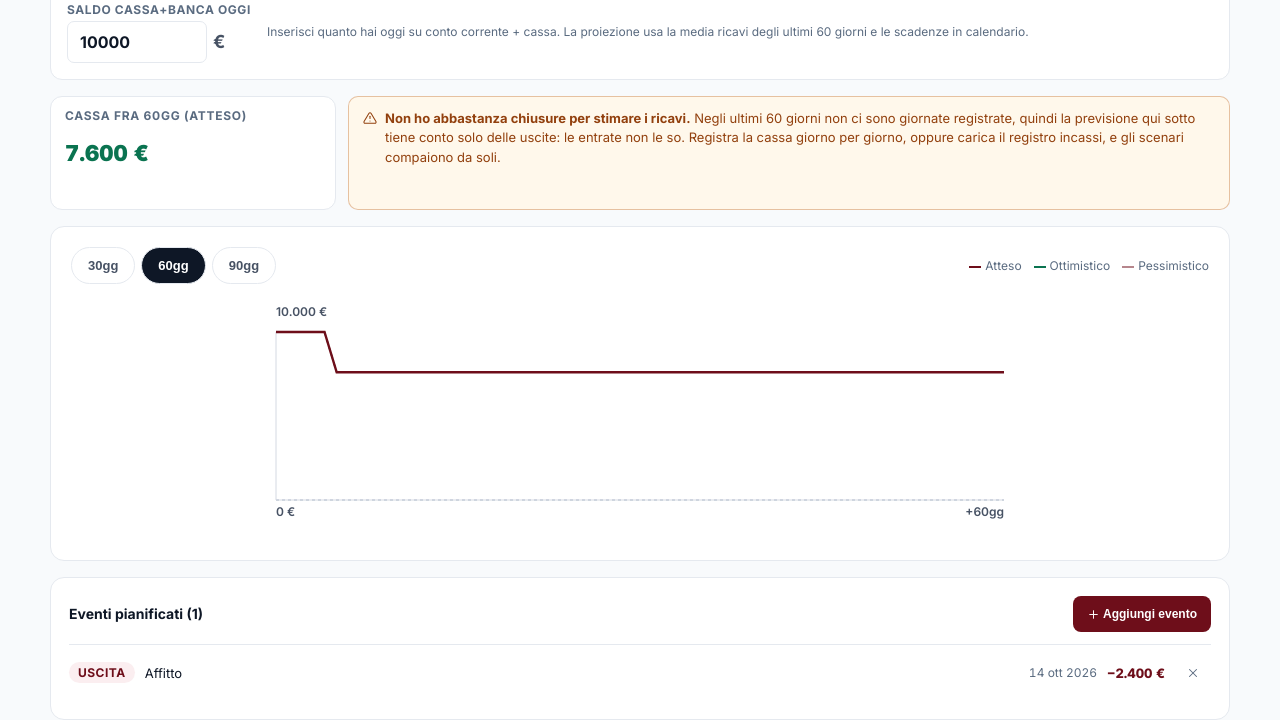
Test: eliminare un evento: la finestra è quella dell'app › il browser non viene mai interpellato
(page scrolled)
Click the button named "Elimina evento Affitto": (1193, 673) left=1175, top=655, right=1211, bottom=691
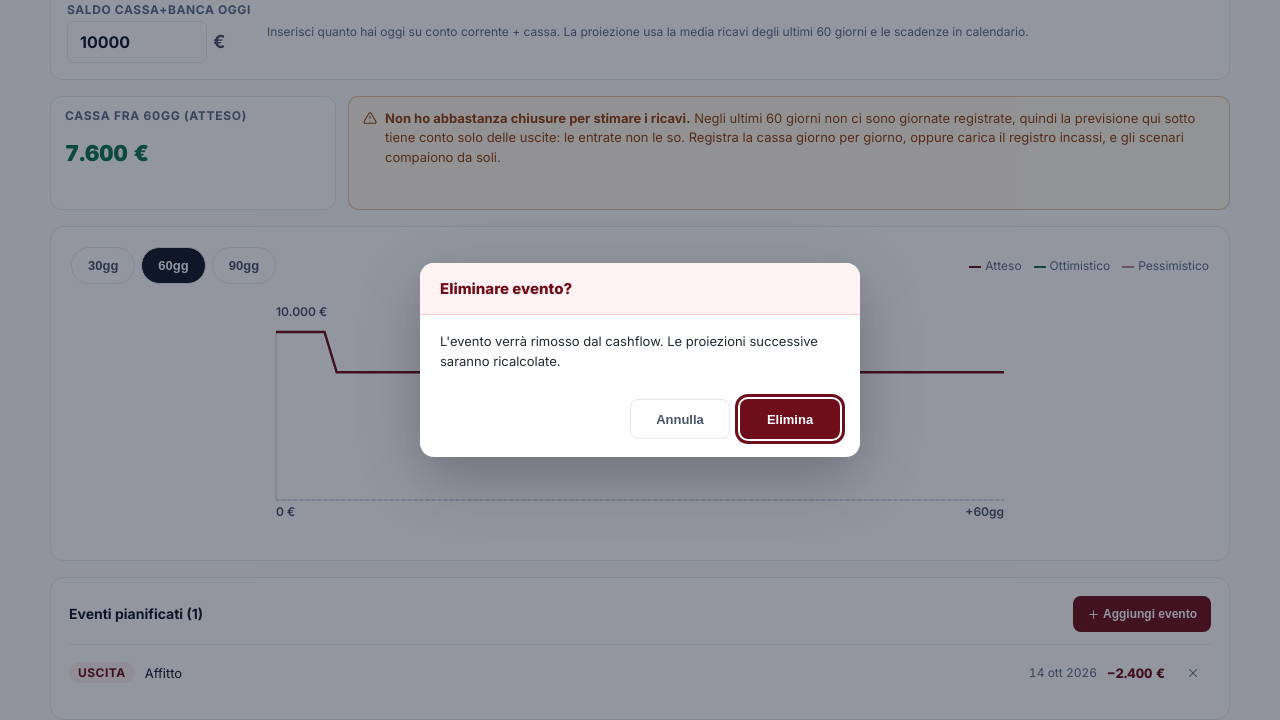
Now the text "Eliminare evento?" is shown, box left=440, top=279, right=572, bottom=298
